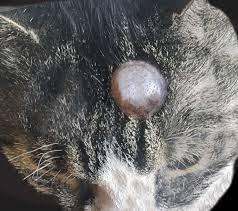lump_and_bump: (109, 55, 165, 121)
